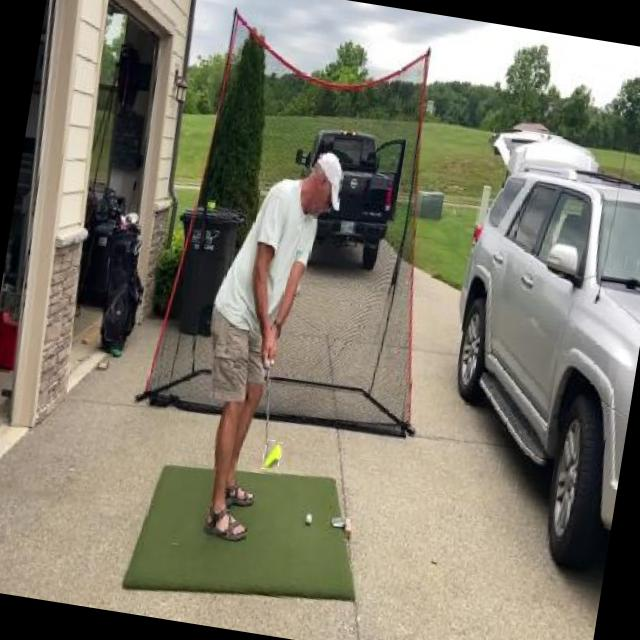club head: (262, 440, 282, 471)
